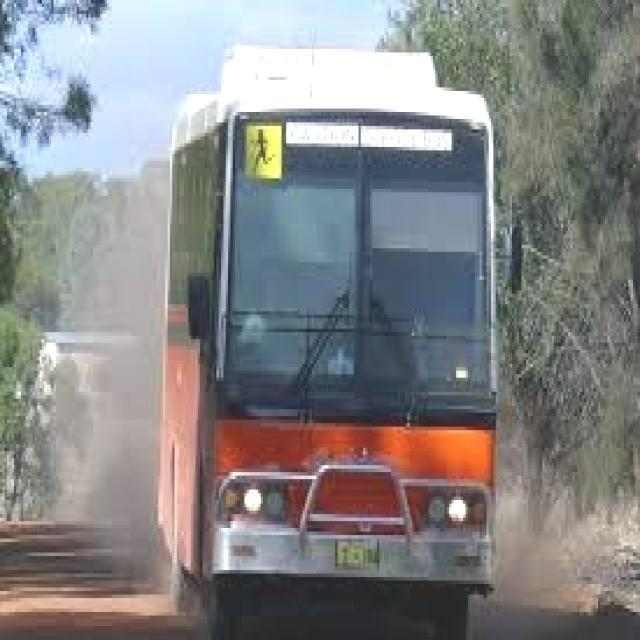Bus: (141, 23, 530, 623)
